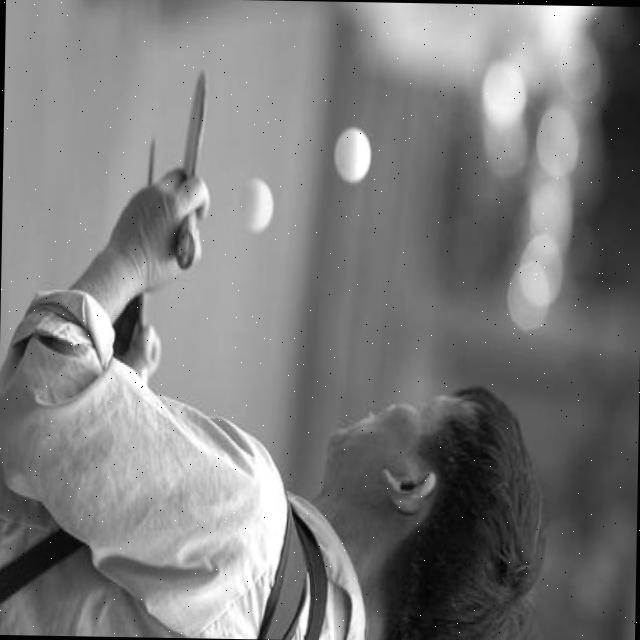ping-pong-ball: (330, 124, 376, 184), (234, 174, 276, 234)
